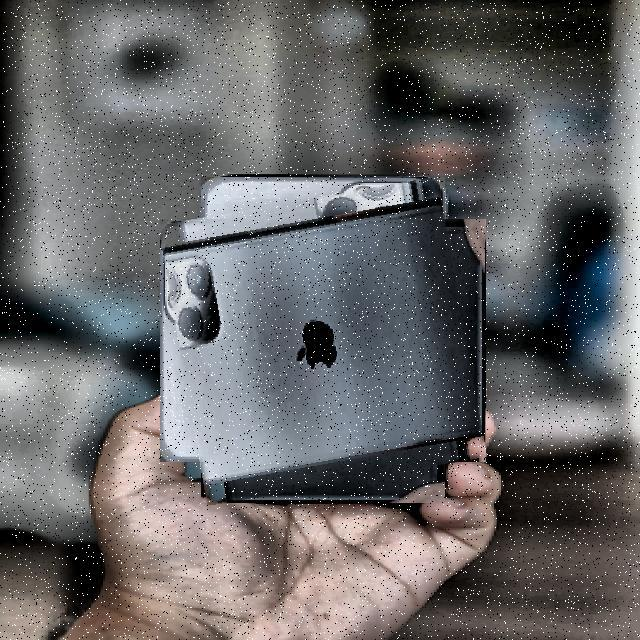Phone: (169, 187, 476, 494)
